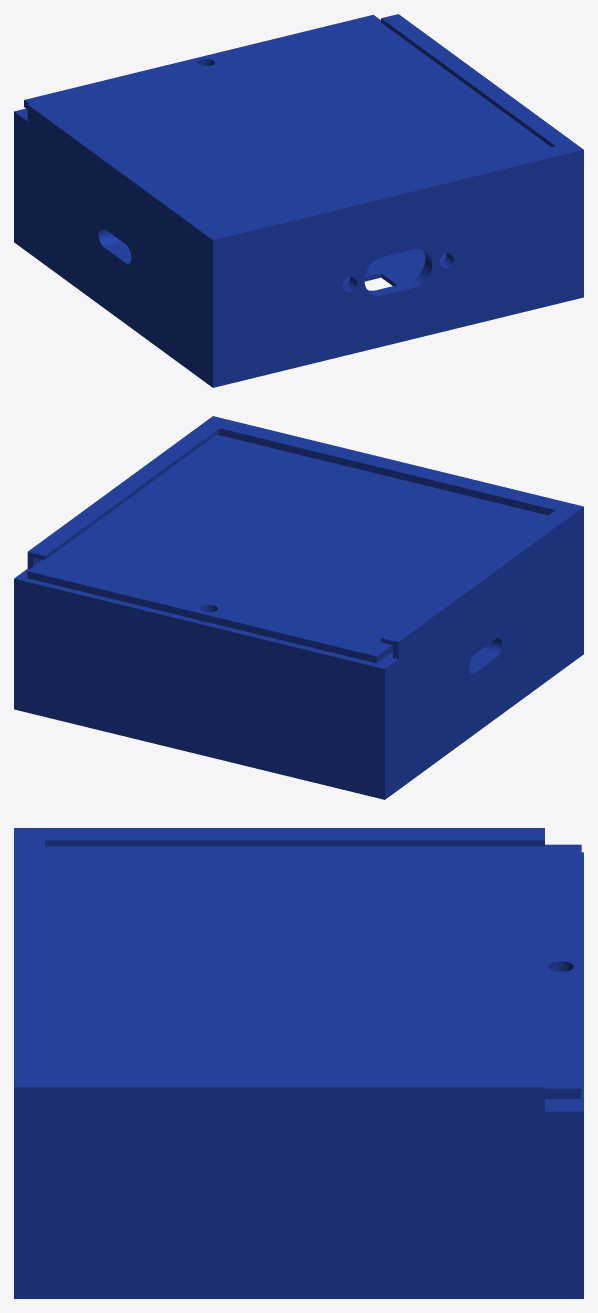
Rendered from navais1.0.glb.
3 views of the same model, one above another, from view 1: azimuth 30°, elevation 25°; view 2: azimuth 150°, elevation 25°; view 3: azimuth 270°, elevation 25° (orthographic). The views are drawn at different scales.
Visible parts, largest first — view 1: Caja Navais V3; view 2: Caja Navais V3; view 3: Caja Navais V3.
Boxes of the visible parts, <box> form: Caja Navais V3: <box>14,14,583,387</box>; Caja Navais V3: <box>14,416,583,799</box>; Caja Navais V3: <box>14,828,583,1298</box>.
Size of the model in its own units: 55.2 by 21 by 51.3.
